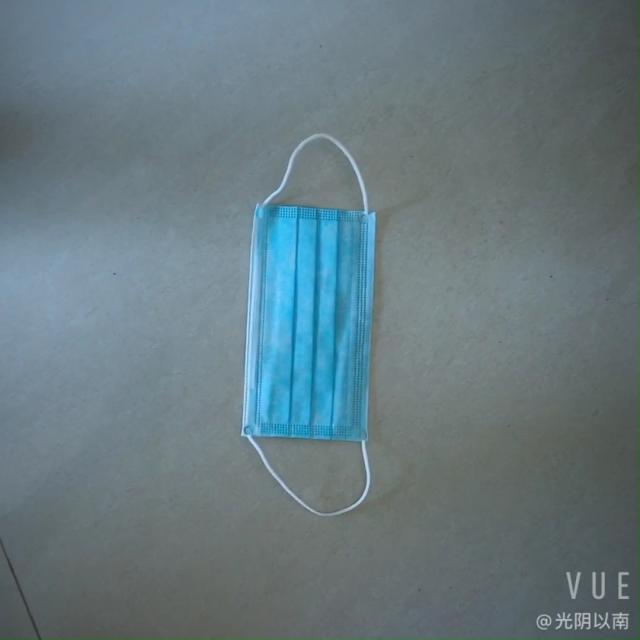face mask: (224, 176, 401, 467)
